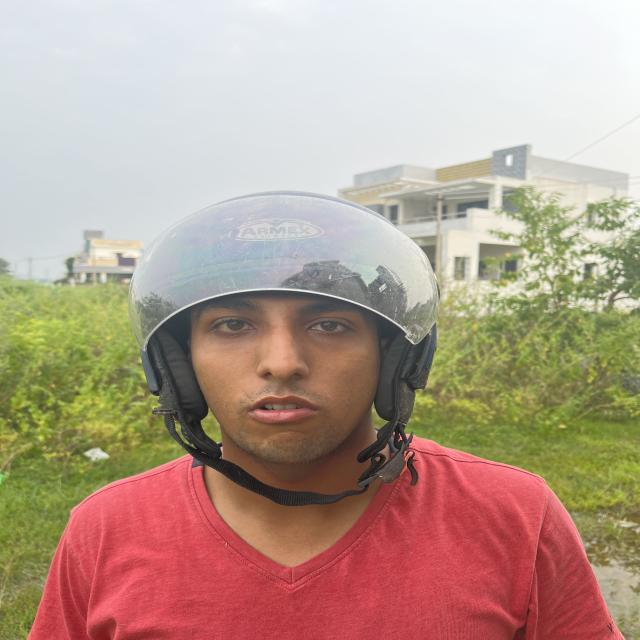Helmet: (130, 191, 440, 456)
